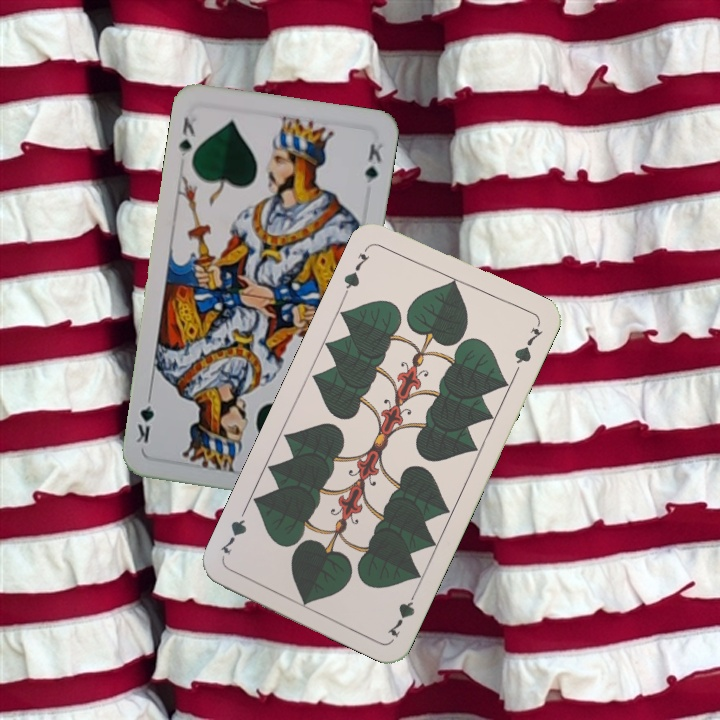G7: (383, 584, 421, 640), (339, 242, 373, 298)
GK: (175, 113, 199, 160)
